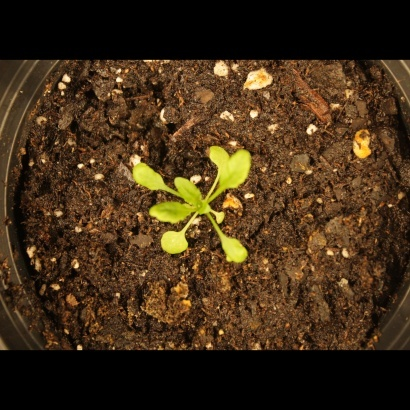leaf: (218, 144, 251, 194), (123, 161, 169, 196), (159, 226, 197, 261), (218, 227, 250, 268), (146, 200, 194, 225), (173, 175, 205, 209), (207, 145, 233, 175), (210, 207, 233, 230)
